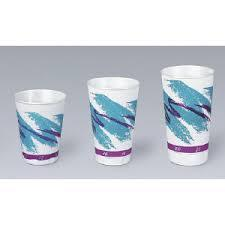Plastic cup: (156, 59, 219, 171), (9, 82, 77, 180), (82, 77, 144, 170)
